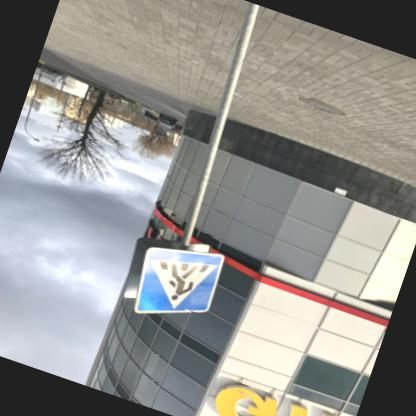crosswalk: (126, 232, 226, 334)
